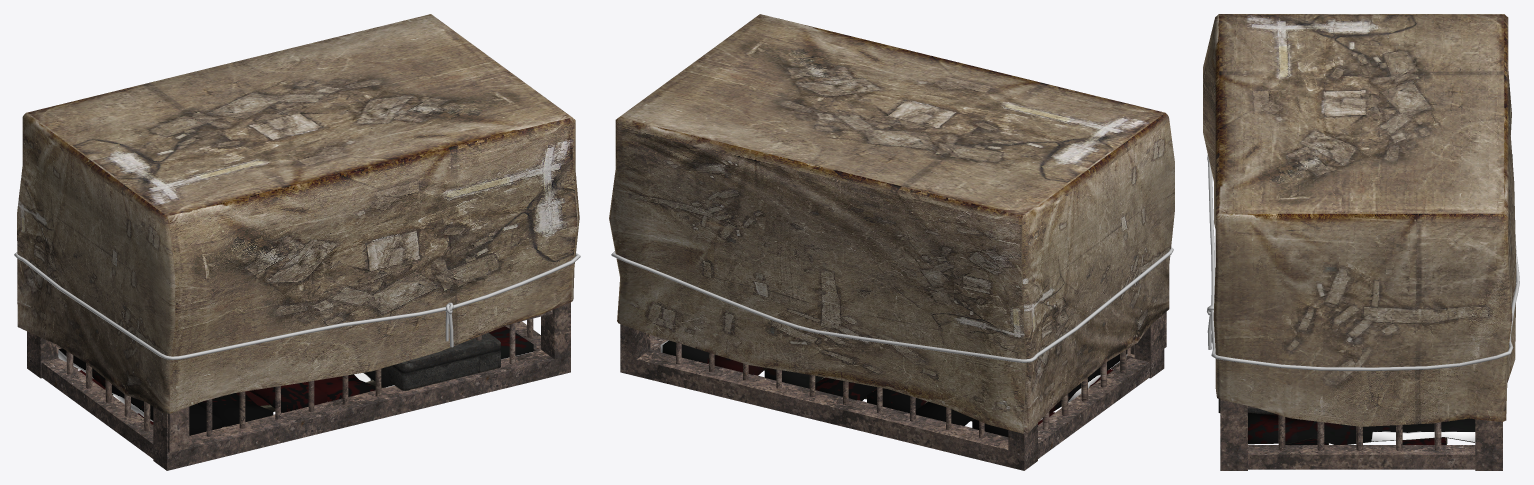
File: cage_05.DAE
3 views of the same model, side by side, from view 1: azimuth 30°, elevation 25°; view 2: azimuth 150°, elevation 25°; view 3: azimuth 270°, elevation 25° (orthographic).
Parts seen in each view (by area): view 1: Box012, Object052, Object049, Box013, Line002, Object050; view 2: Box012, Object052, Object049, Line002; view 3: Box012, Object052, Object049, Line002.
Boxes of the visible parts, box(x1,y1,x2,y2) form: Box012: box(17, 14, 579, 413); Object052: box(27, 302, 570, 470); Object049: box(58, 326, 533, 435); Box013: box(375, 332, 500, 390); Line002: box(14, 252, 580, 360); Object050: box(168, 381, 314, 452); Box012: box(609, 14, 1174, 433); Object052: box(620, 278, 1164, 470); Object049: box(660, 340, 1127, 436); Line002: box(611, 247, 1173, 362); Box012: box(1203, 14, 1516, 426); Object052: box(1220, 375, 1502, 470); Object049: box(1248, 412, 1475, 444); Line002: box(1207, 154, 1519, 370).
Bounding box in the file's own units: 2.63 × 1.51 × 1.68.
